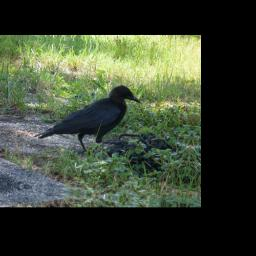Crow: (31, 74, 143, 162)
